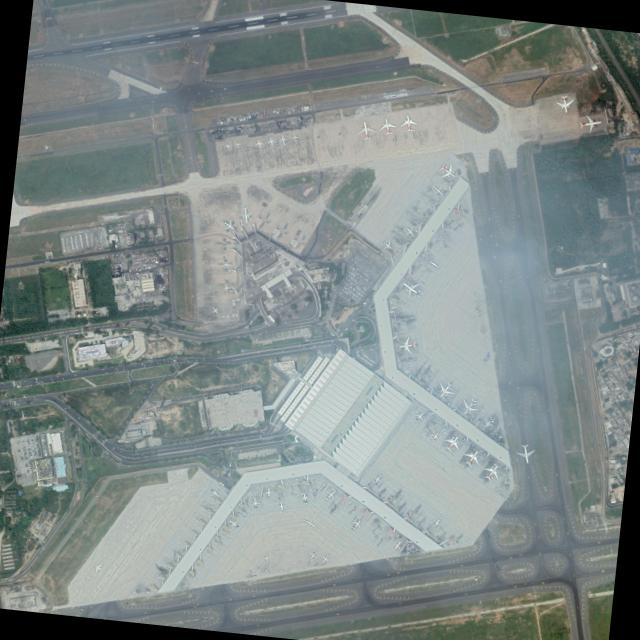large-vehicle: (363, 204, 366, 207), (362, 205, 365, 208), (339, 331, 341, 335), (329, 332, 333, 334), (321, 481, 323, 485), (364, 203, 366, 206), (343, 327, 346, 329), (319, 485, 321, 488), (322, 482, 324, 485), (171, 359, 175, 360), (179, 358, 183, 359)
plane: (395, 273, 426, 303), (434, 156, 460, 183), (456, 391, 481, 419), (432, 374, 456, 401), (479, 457, 503, 484), (439, 428, 463, 455), (459, 444, 483, 470), (577, 110, 602, 134), (354, 118, 376, 142), (377, 114, 398, 138), (514, 441, 535, 464), (397, 332, 417, 356), (398, 111, 418, 133), (554, 92, 574, 113), (320, 484, 338, 503), (224, 514, 243, 532), (387, 535, 404, 554), (347, 513, 364, 532), (219, 215, 237, 232), (237, 203, 252, 223), (428, 180, 445, 197), (368, 469, 385, 486), (299, 513, 317, 529), (479, 412, 495, 430), (410, 407, 426, 424), (400, 221, 416, 238), (429, 512, 445, 529), (205, 483, 222, 499), (426, 256, 442, 272), (379, 236, 394, 251), (247, 494, 261, 510), (317, 549, 331, 565), (426, 428, 440, 443), (297, 489, 310, 505), (274, 498, 287, 513), (305, 547, 318, 561), (90, 559, 104, 572), (261, 486, 274, 499), (277, 132, 287, 145), (253, 136, 264, 147), (208, 304, 218, 316), (265, 135, 275, 146), (261, 551, 270, 563), (290, 132, 298, 141), (221, 282, 229, 291), (222, 259, 230, 267), (83, 572, 91, 580), (233, 140, 240, 147), (224, 142, 230, 148), (100, 552, 107, 557), (220, 313, 224, 318), (234, 312, 237, 316), (230, 312, 233, 316), (225, 313, 228, 317)
small-vehicle: (129, 417, 131, 419), (63, 406, 65, 408), (116, 434, 117, 436), (140, 362, 142, 363), (140, 363, 142, 364), (61, 377, 63, 378), (39, 380, 41, 381), (23, 379, 25, 380), (18, 385, 20, 386), (18, 383, 20, 384), (77, 416, 79, 417), (0, 400, 2, 401), (10, 402, 12, 403), (10, 400, 12, 401), (8, 399, 10, 400), (142, 364, 144, 365), (128, 372, 129, 374), (194, 358, 196, 359), (189, 359, 191, 360), (186, 360, 188, 361), (172, 362, 174, 363), (169, 360, 171, 361), (162, 358, 164, 359), (158, 362, 160, 363), (73, 373, 75, 374), (83, 369, 85, 370), (104, 371, 106, 372), (114, 367, 116, 368), (41, 381, 42, 382), (38, 381, 39, 382), (37, 382, 38, 383), (16, 384, 17, 385), (67, 406, 68, 407), (9, 402, 10, 403), (92, 433, 93, 434), (111, 447, 112, 448), (112, 446, 113, 447), (134, 450, 135, 451), (119, 450, 120, 451), (155, 317, 156, 318), (154, 317, 155, 318), (202, 358, 203, 359), (184, 356, 185, 357), (183, 357, 184, 358), (176, 370, 177, 371), (156, 361, 157, 362), (18, 381, 20, 381), (18, 382, 19, 382), (5, 403, 7, 403), (149, 361, 151, 361), (121, 368, 123, 368), (183, 360, 184, 360), (185, 359, 187, 359), (166, 360, 168, 360), (101, 368, 103, 368), (116, 369, 117, 369)
storage-tank: (628, 293, 638, 303), (627, 282, 635, 293), (636, 280, 640, 289)
